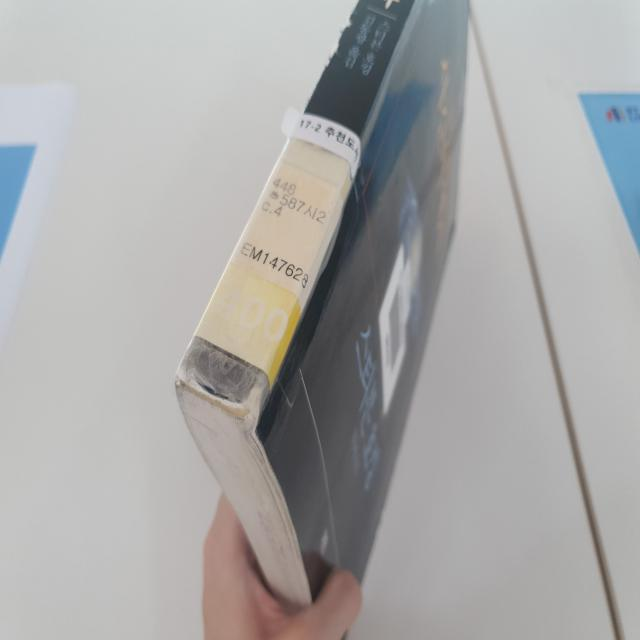Ripped: (234, 371, 268, 435)
Wornout: (171, 373, 233, 424), (322, 6, 357, 73), (254, 435, 278, 478)
